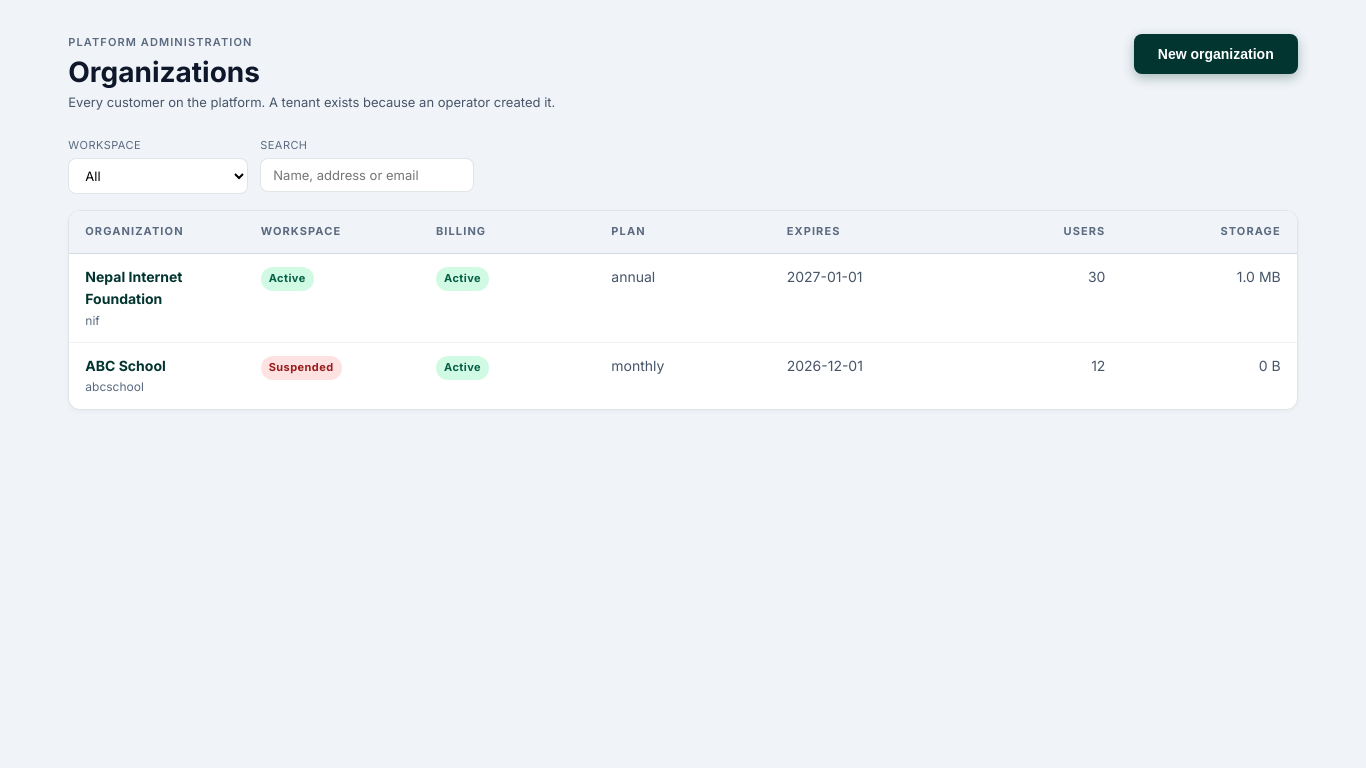
Test: organization list › opens the one-step provisioning dialog
Expected: the text "ABC School" is shown, top-left (85, 357), bottom-right (166, 374)
Step 1. Click the button "New organization" → (1216,54), box top-left (1134, 34), bottom-right (1298, 74)
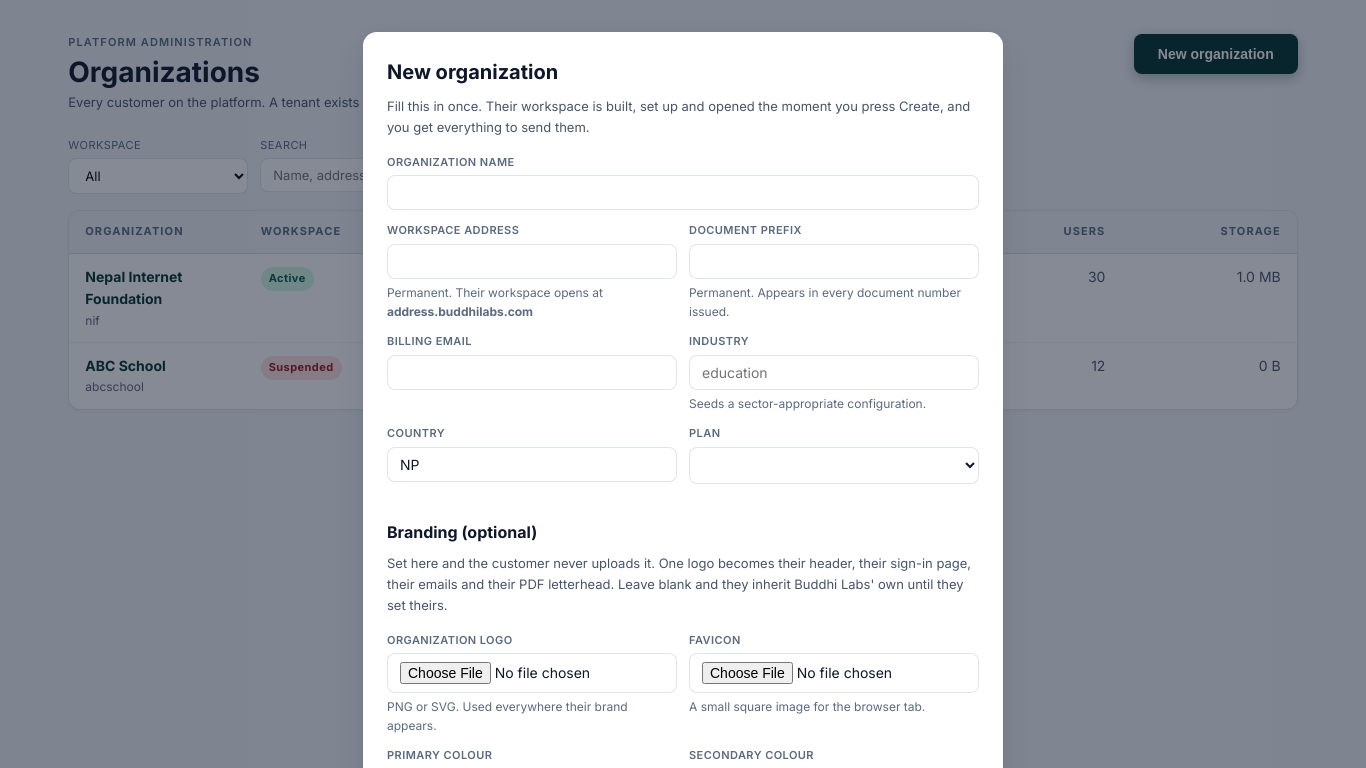
Expected: the text "built, set up and opened" is shown, top-left (387, 98), bottom-right (970, 135)
